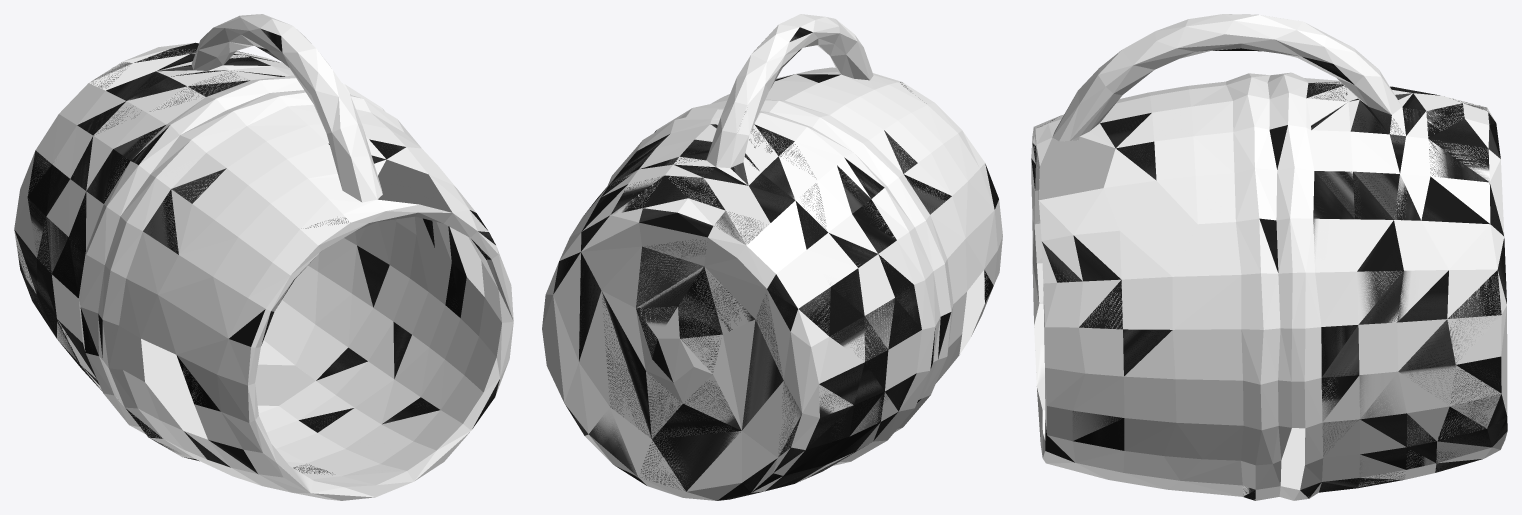
File: model_align.obj
The picture shows the model from 3 angles, left to right: view 1: azimuth 30°, elevation 25°; view 2: azimuth 150°, elevation 25°; view 3: azimuth 270°, elevation 25°; orthographic projection. The views are drawn at different scales.
Bounding box in the file's own units: 0.098 × 0.1168 × 0.1077.
